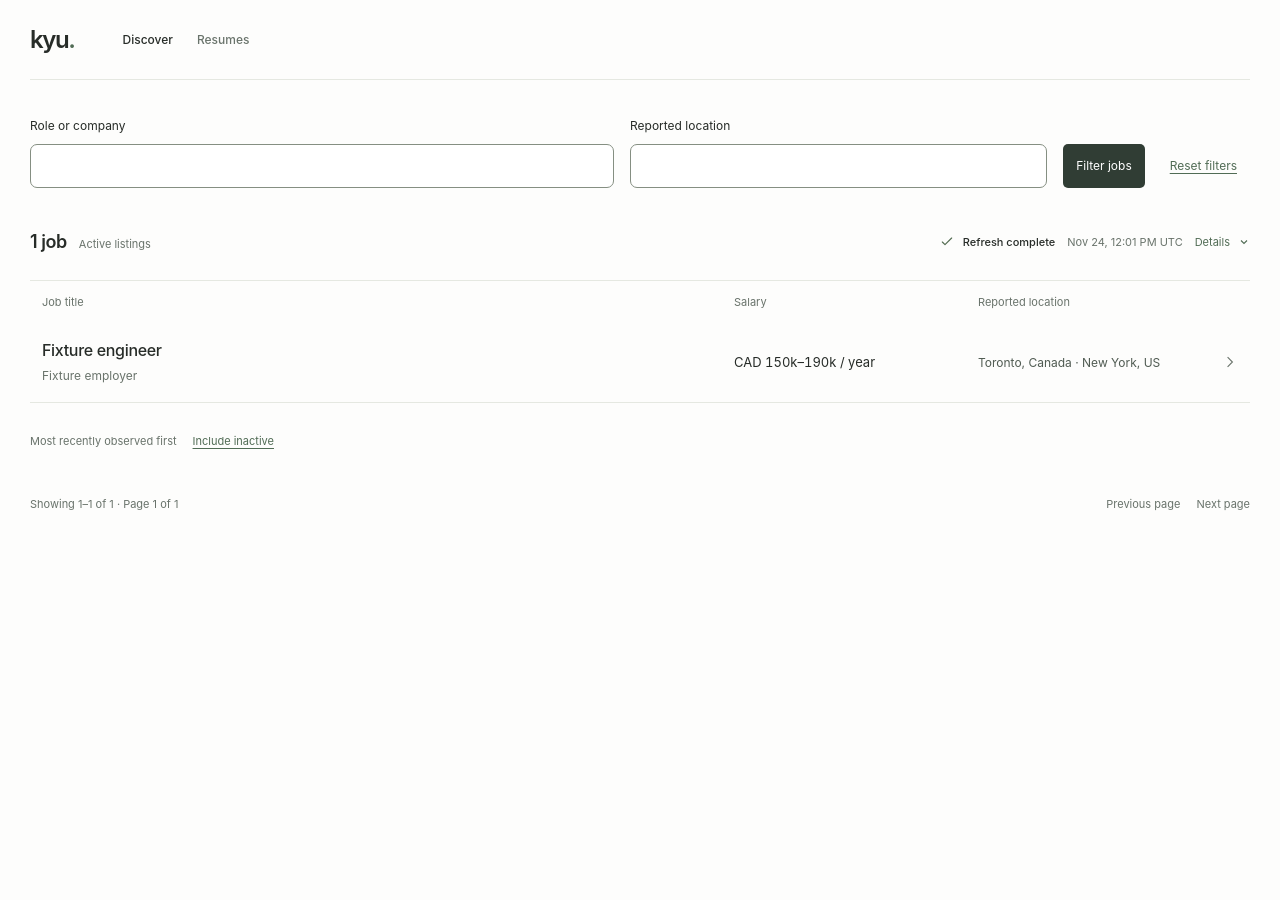
JobCatalog › preserves bounded Hirebase coverage and every quota fact without a permanent explanation
This screenshot has width=1280, height=900.
Expected: the text "success · Limited sample" is not shown
Click the heading "Refresh complete Nov 24, 12:01 PM UTC Details". click: (1094, 242)
box: [939,234,1250,250]
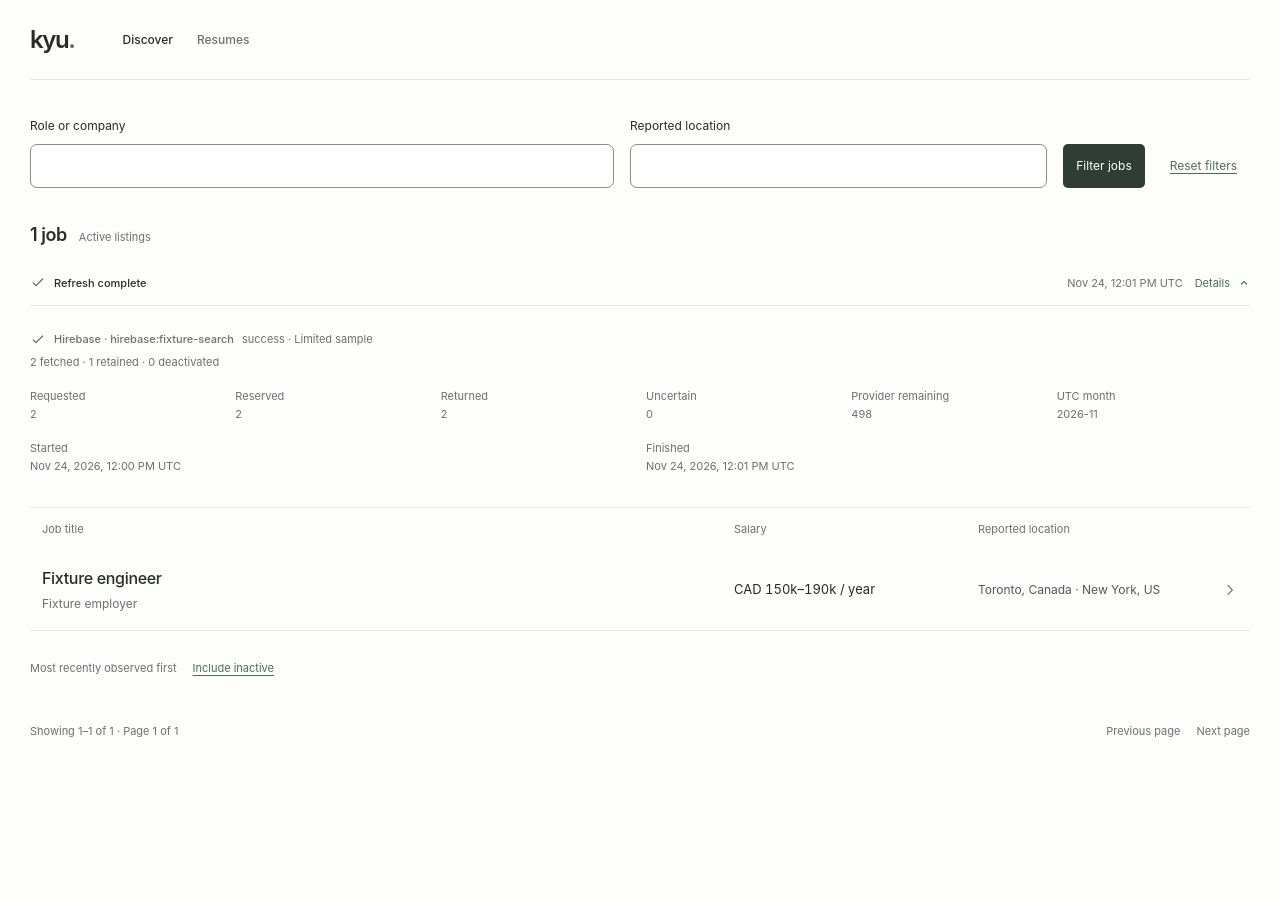
Result: the text "success · Limited sample" is shown at [242,330,373,349]
Result: the text "2" below "Returned" is shown at [441,407,447,421]
Result: the text "0" is shown at [646,407,653,421]
